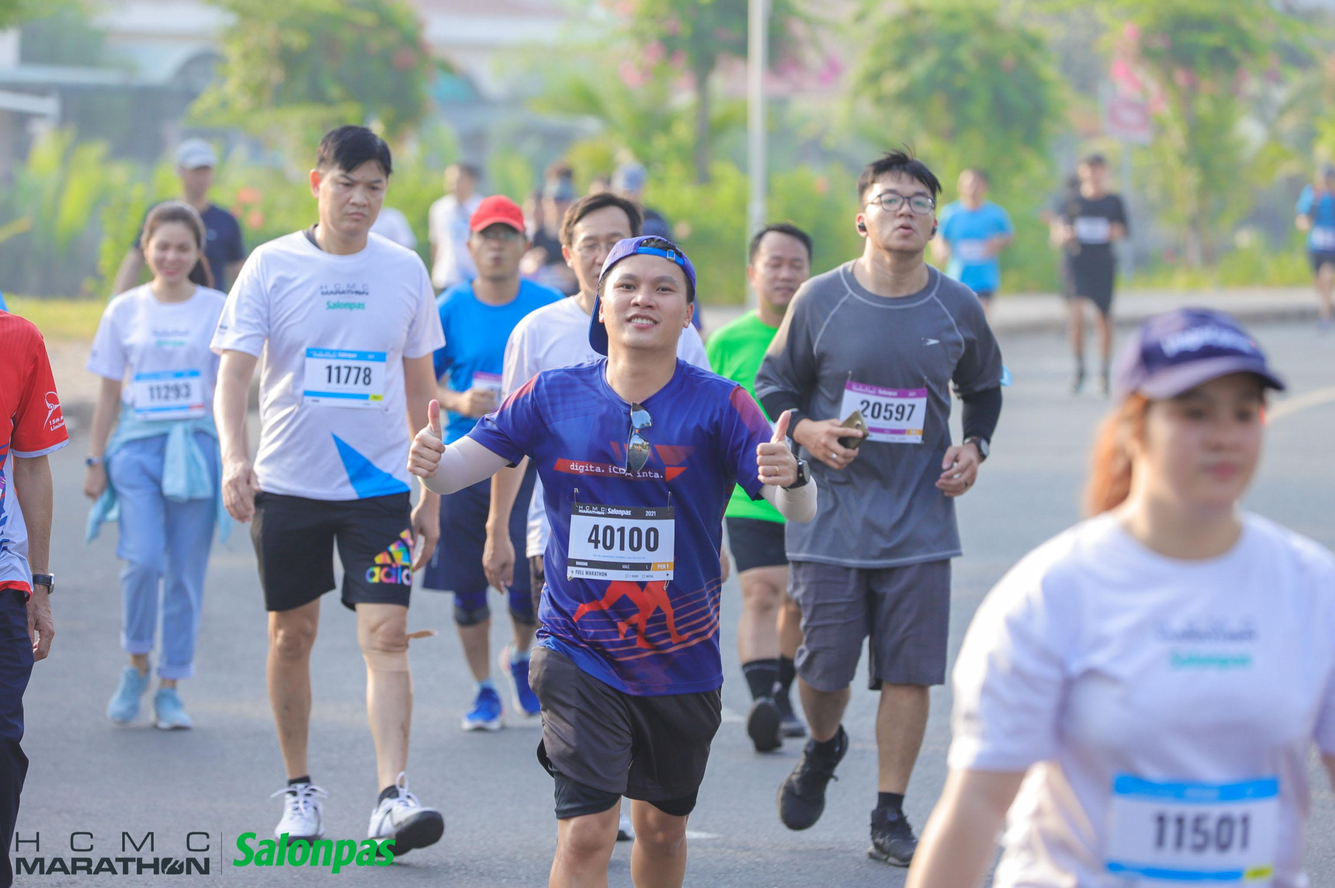bib: (1101, 773, 1281, 882), (567, 502, 675, 584), (842, 378, 926, 447), (301, 346, 386, 412), (132, 369, 204, 422)
